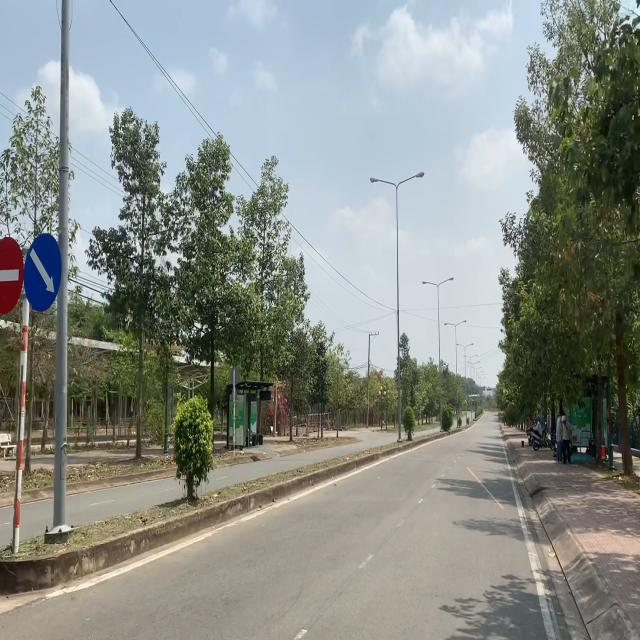Hieu lenh: (22, 232, 63, 314)
